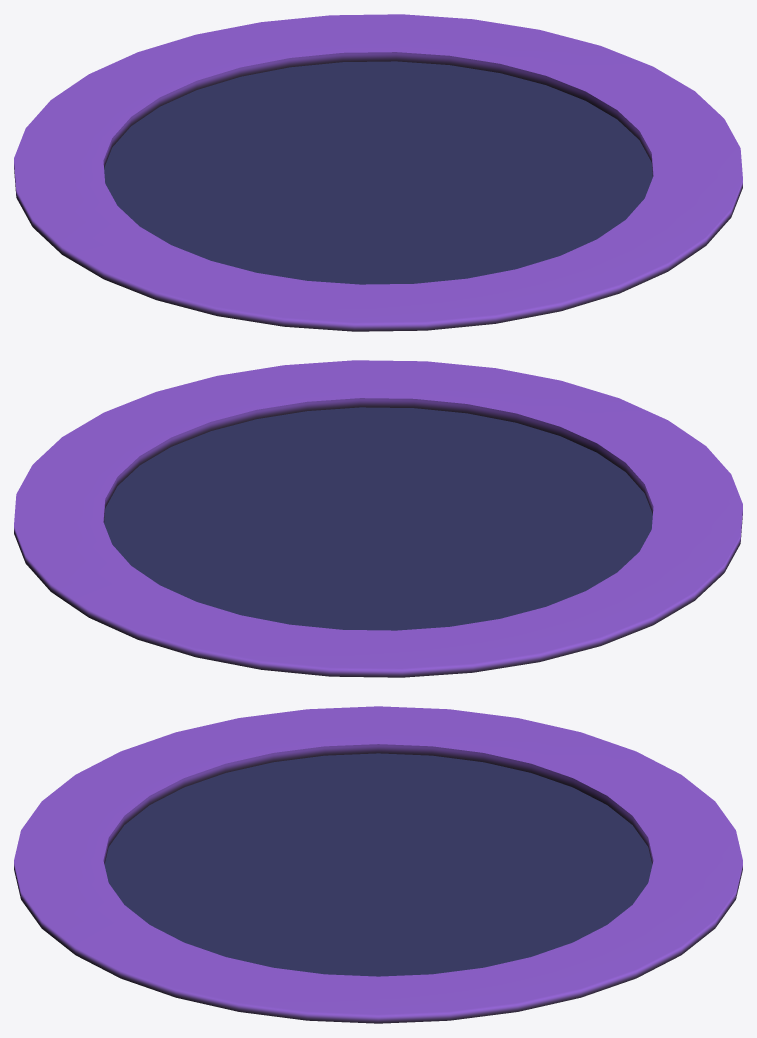
The picture shows the model from 3 angles, top to bottom: view 1: azimuth 30°, elevation 25°; view 2: azimuth 150°, elevation 25°; view 3: azimuth 270°, elevation 25°; orthographic projection.
Parts seen in each view (by area): view 1: Base01; view 2: Base01; view 3: Base01.
Boxes of the visible parts, left/top/right/bottom form: Base01: left=14, top=14, right=742, bottom=331; Base01: left=14, top=360, right=742, bottom=677; Base01: left=14, top=706, right=742, bottom=1023.
Size of what is drawn, in the model's own units: 71.06 by 1 by 71.06.
1 material, 1 textured.
